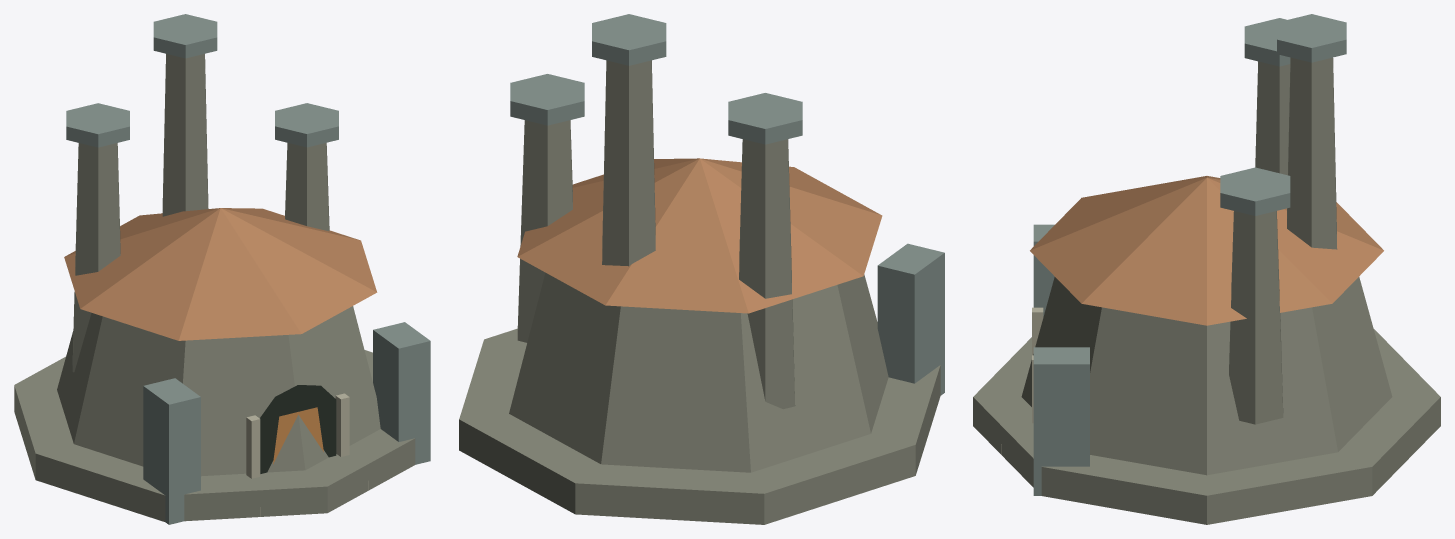
File: emberForge.glb
The picture shows the model from 3 angles, left to right: view 1: azimuth 30°, elevation 25°; view 2: azimuth 150°, elevation 25°; view 3: azimuth 270°, elevation 25°; orthographic projection. The views are drawn at different scales.
Parts seen in each view (by area): view 1: Building; view 2: Building; view 3: Building.
Boxes of the visible parts, bbox=[...] form: Building: bbox=[14, 14, 430, 524]; Building: bbox=[459, 14, 944, 524]; Building: bbox=[973, 14, 1440, 524].
Bounding box in the file's own units: 58 × 55 × 58.
